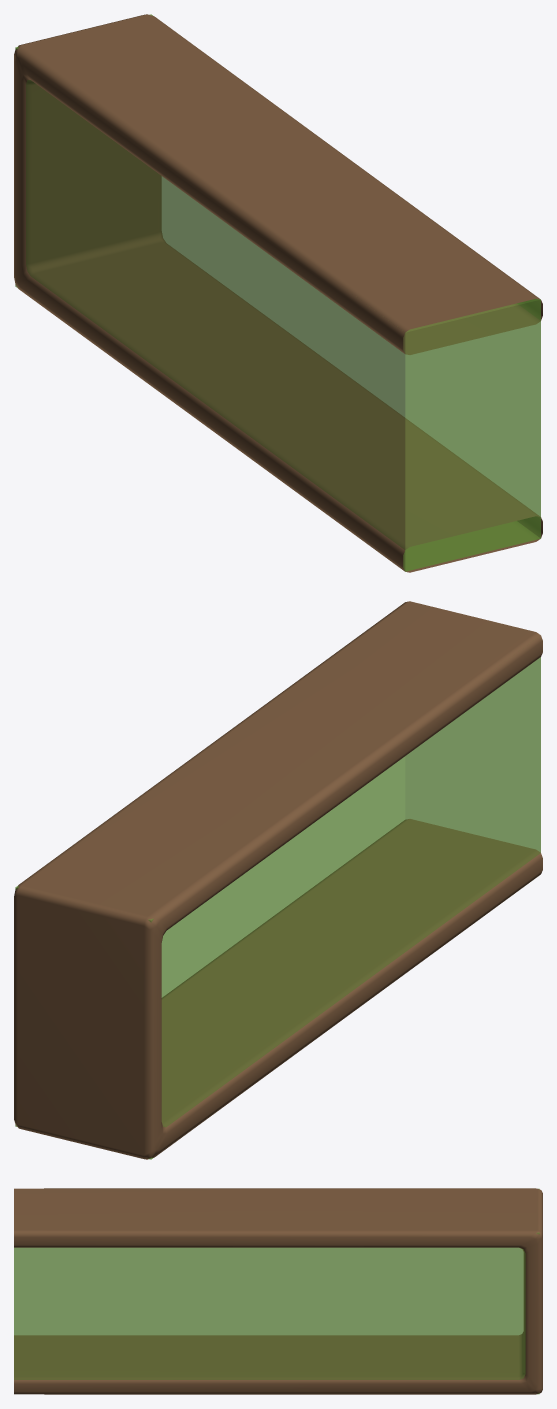
Rendered from M_md_CabinetShelve_end_02.fbx.
3 renders of one model, top to bottom at view 1: azimuth 30°, elevation 25°; view 2: azimuth 150°, elevation 25°; view 3: azimuth 270°, elevation 25°, orthographic. The views are drawn at different scales.
Parts seen in each view (by area): view 1: M_md_CabinetShelve_end_02_LOD0, M_md_CabinetShelve_end_02_col_01; view 2: M_md_CabinetShelve_end_02_LOD0, M_md_CabinetShelve_end_02_col_01; view 3: M_md_CabinetShelve_end_02_col_01, M_md_CabinetShelve_end_02_LOD0.
Boxes of the visible parts, x1=… form: M_md_CabinetShelve_end_02_LOD0: x1=14, y1=14, x2=542, y2=572; M_md_CabinetShelve_end_02_col_01: x1=15, y1=14, x2=540, y2=571; M_md_CabinetShelve_end_02_LOD0: x1=14, y1=601, x2=542, y2=1159; M_md_CabinetShelve_end_02_col_01: x1=15, y1=657, x2=540, y2=1159; M_md_CabinetShelve_end_02_col_01: x1=14, y1=1188, x2=539, y2=1394; M_md_CabinetShelve_end_02_LOD0: x1=14, y1=1188, x2=542, y2=1394.
Size of what is drawn, in the model's own units: 20.58 by 34.22 by 100.
